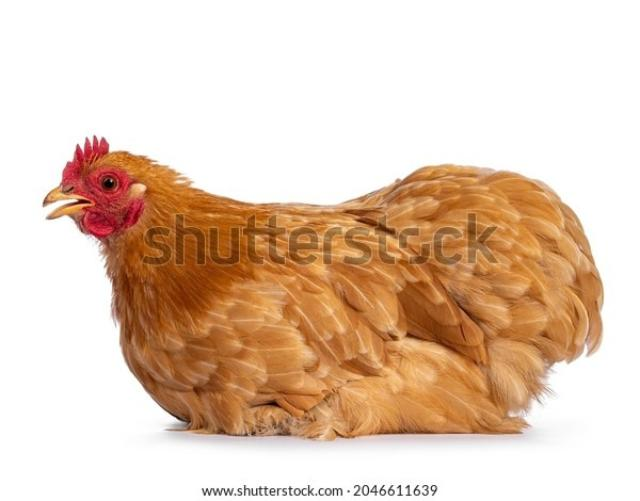Chicken: (44, 134, 604, 440)
